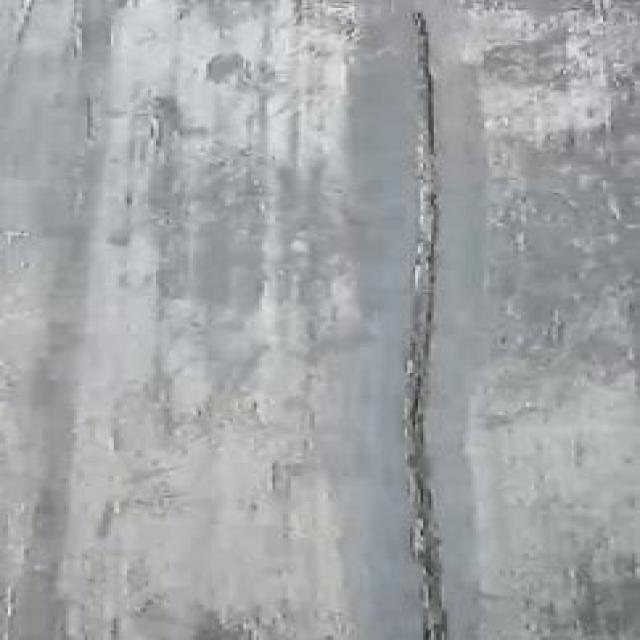Tear: (399, 4, 457, 640)
